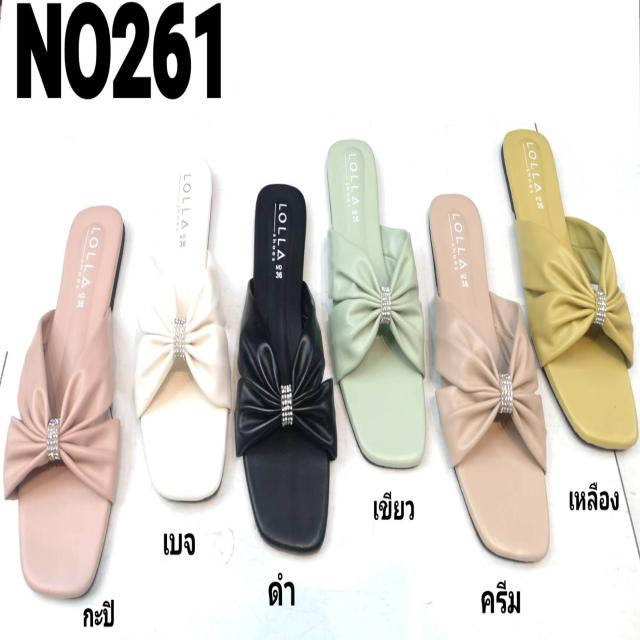bej: (138, 146, 224, 500)
black: (236, 183, 328, 553)
cream: (427, 191, 549, 564)
green: (326, 135, 426, 468)
kapi: (16, 210, 126, 599)
yellow: (503, 131, 640, 457)
